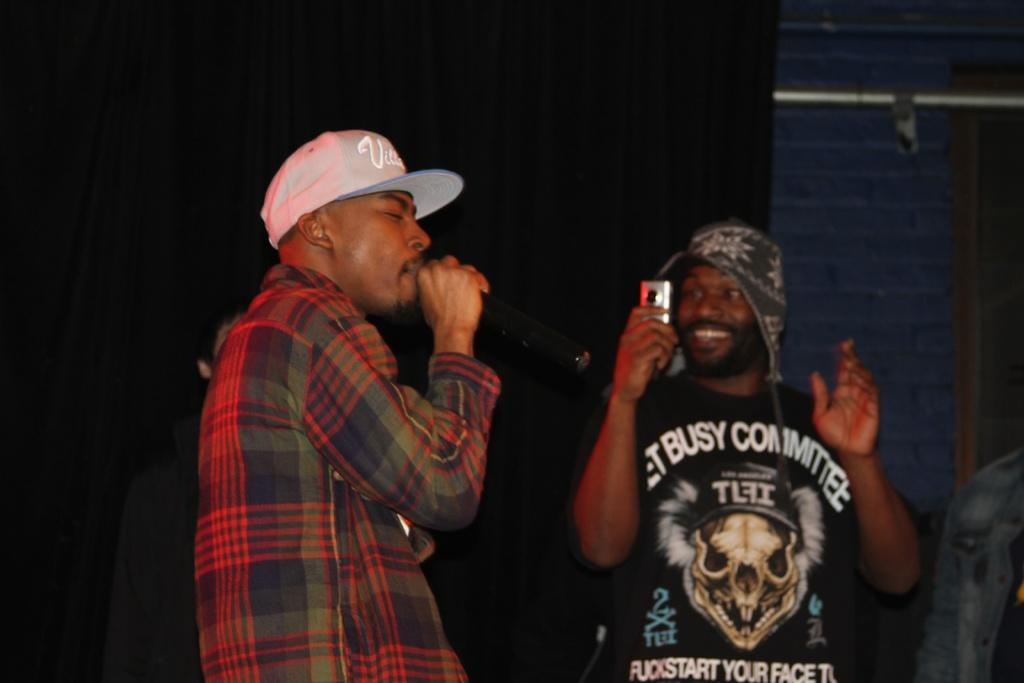Hat: (654, 220, 791, 499), (263, 128, 467, 252), (683, 459, 803, 536)
